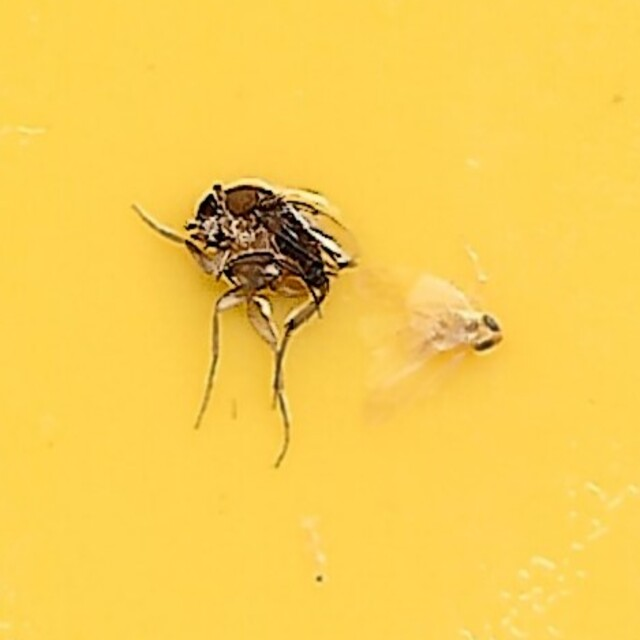Brachycera: (136, 176, 363, 464)
Hemiptera: (353, 252, 504, 428)
